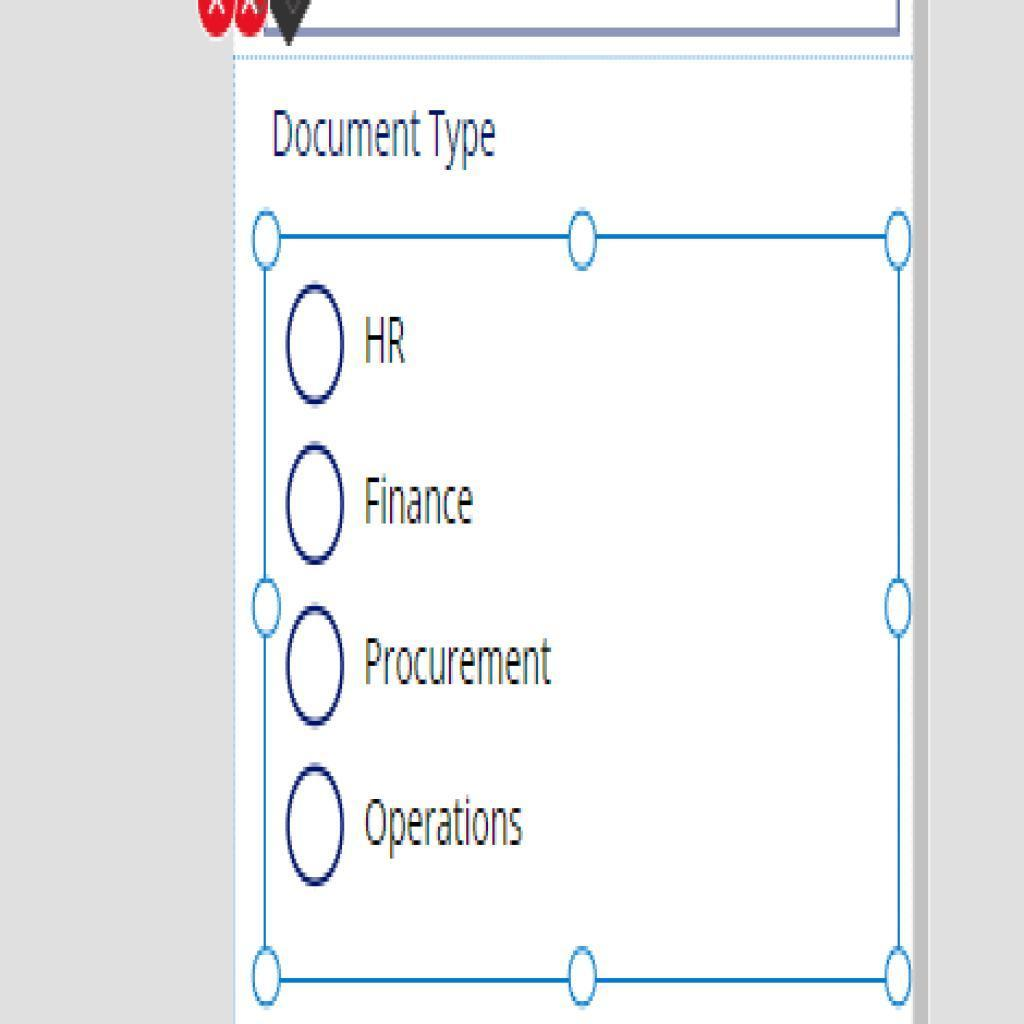radio: (283, 271, 349, 414), (286, 754, 351, 889), (286, 439, 353, 567), (285, 603, 350, 726)
